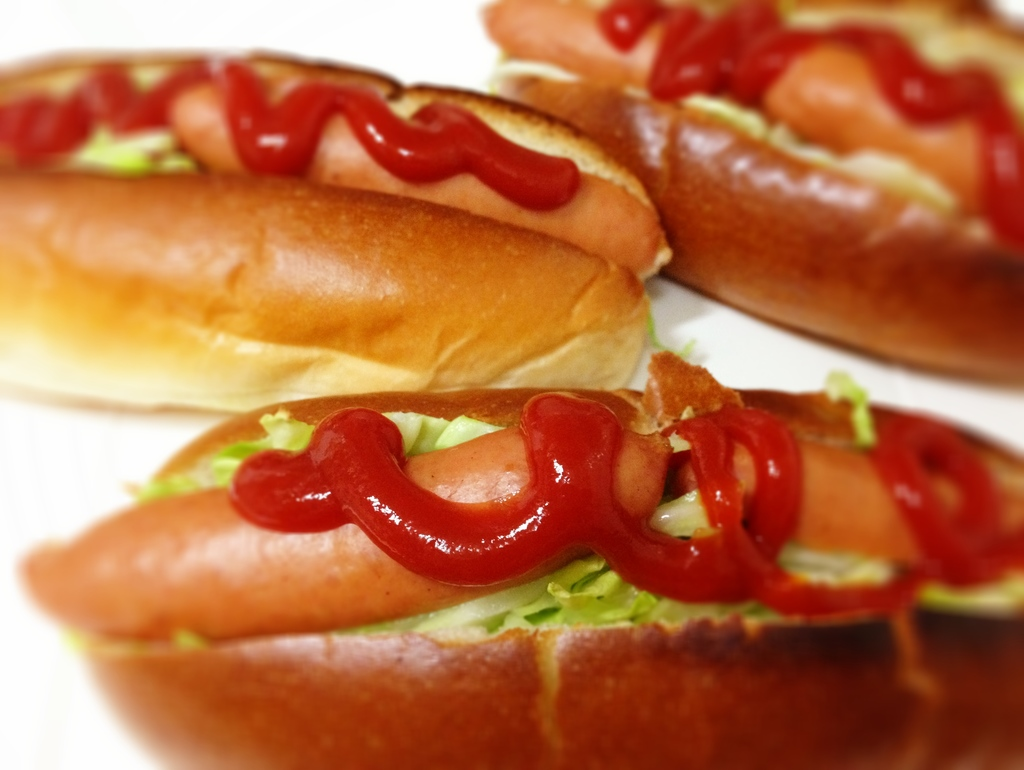hot_dog: (16, 352, 1023, 769), (0, 51, 673, 419), (0, 46, 668, 411), (488, 0, 1023, 382)
